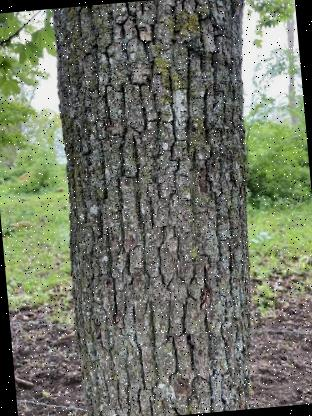tree: (31, 0, 287, 416)
